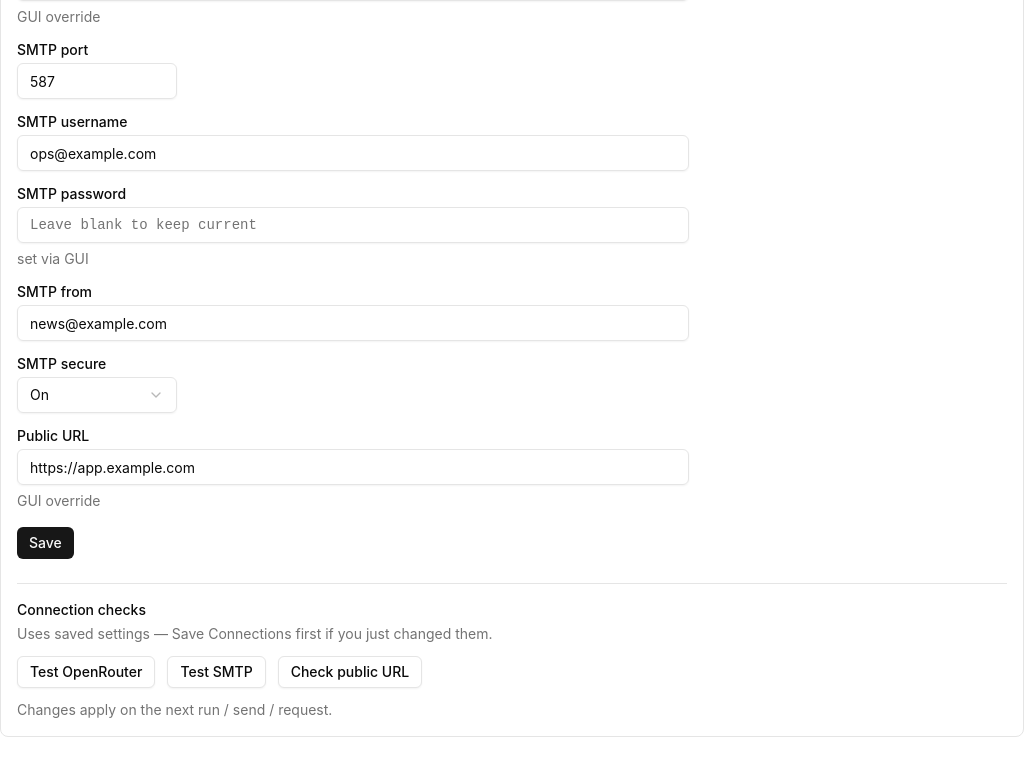
Test: ConnectionsSettings — connection diagnostics controls › toasts success on pass and shows inline Pass status
The width and height of the screenshot is (1024, 761).
(page scrolled)
Click the button "Test OpenRouter": click(86, 672) [17,656,155,688]
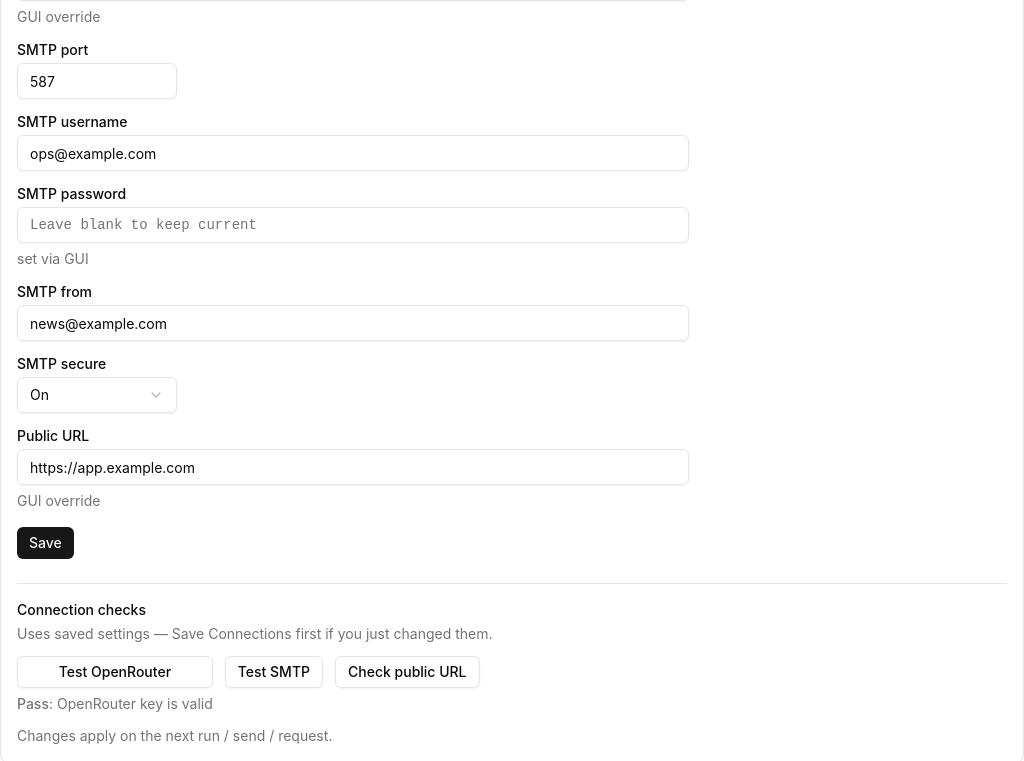
Expected: the text "Pass" is shown, [17,695,49,712]
Expected: the text "Pass: OpenRouter key is valid" is shown, [17,694,213,714]
